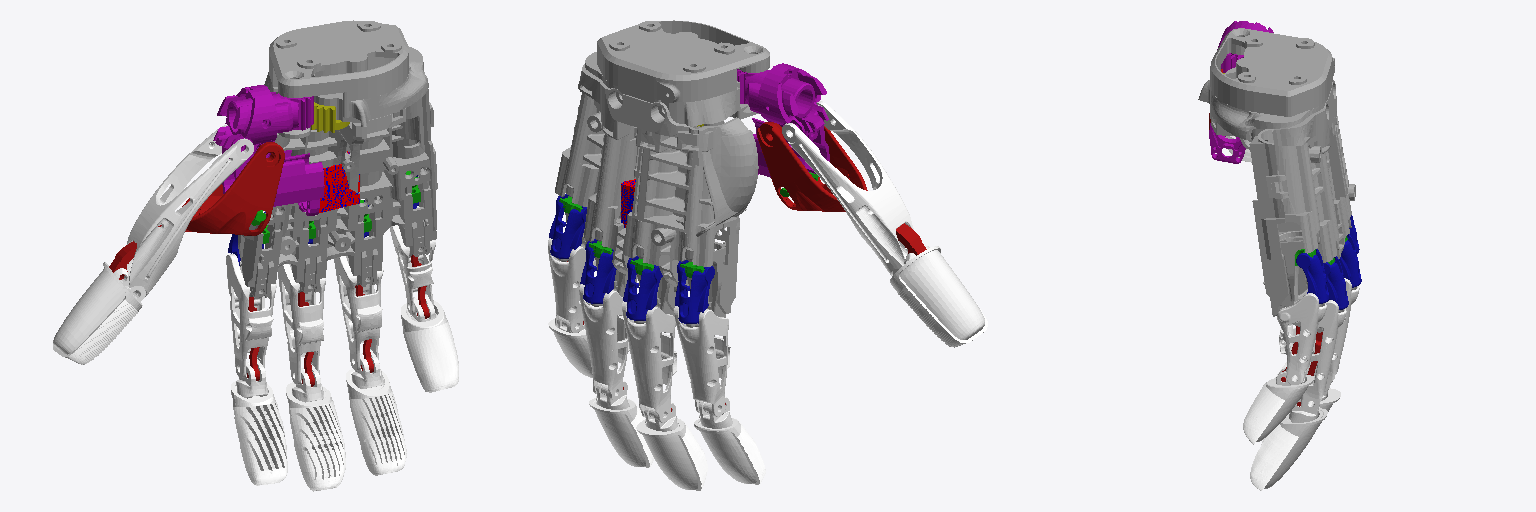
--- What the picture shows (computed from the rendered views, not written in the file) ---
3 views of the same robot in one strip: view 1: azimuth 30°, elevation 25°; view 2: azimuth 150°, elevation 25°; view 3: azimuth 270°, elevation 25° (orthographic).
Model covvi_hand_right with 87 links and 86 joints (32 revolute, 54 fixed), rooted at __hand_link, posed joints at zero except 8 at the middle of their limits (, +8 more).
Visible links, largest first — view 1: hand_link, thumb_proximal, thumb_chassis, thumb_link, middle_distal, thumb_distal, index_distal, ring_distal, little_distal, middle_proximal, index_proximal, ring_proximal (+3 smaller); view 2: hand_link, thumb_proximal, thumb_distal, thumb_chassis, thumb_link, middle_proximal, index_proximal, ring_proximal, middle_distal, index_distal, ring_distal, little_proximal (+5 smaller); view 3: hand_link, ring_distal, little_proximal, little_distal, ring_proximal, thumb_chassis, little_knuckle, middle_proximal, ring_knuckle, middle_knuckle.
Boxes of the visible links, <box> form: hand_link: <box>238,20,437,298</box>; thumb_proximal: <box>127,125,253,301</box>; thumb_chassis: <box>213,85,324,215</box>; thumb_link: <box>109,142,284,279</box>; middle_distal: <box>286,364,345,491</box>; thumb_distal: <box>53,262,142,364</box>; index_distal: <box>231,359,287,485</box>; ring_distal: <box>346,349,406,475</box>; little_distal: <box>401,294,458,392</box>; middle_proximal: <box>278,264,325,384</box>; index_proximal: <box>226,254,276,377</box>; ring_proximal: <box>334,237,383,370</box>; hand_link: <box>555,20,769,336</box>; thumb_proximal: <box>782,101,913,275</box>; thumb_distal: <box>890,245,987,347</box>; thumb_chassis: <box>737,63,829,177</box>; thumb_link: <box>757,122,926,255</box>; middle_proximal: <box>622,301,676,422</box>; index_proximal: <box>674,306,730,416</box>; ring_proximal: <box>579,284,629,400</box>; middle_distal: <box>636,403,707,490</box>; index_distal: <box>694,397,765,484</box>; ring_distal: <box>589,381,653,467</box>; little_proximal: <box>548,238,596,332</box>; hand_link: <box>1198,28,1355,332</box>; ring_distal: <box>1250,399,1327,490</box>; little_proximal: <box>1277,288,1326,384</box>; little_distal: <box>1243,368,1313,444</box>; ring_proximal: <box>1301,300,1346,411</box>; thumb_chassis: <box>1209,21,1273,163</box>; little_knuckle: <box>1296,249,1328,303</box>; middle_proximal: <box>1312,278,1359,391</box>; ring_knuckle: <box>1324,256,1348,309</box>; middle_knuckle: <box>1339,234,1361,287</box>.
Size in the robot's own frame: 9.94 by 3.65 by 10.22 metres.
Meshes: 27 distinct files referenced, 27 mesh visuals loaded (27 binary STL).

URDF robot description (covvi_hand_right):
<?xml version="1.0" encoding="utf-8"?>
<robot name="covvi_hand_right">

    <link name="__hand_link">
        <visual>
            <origin xyz="0 0 0" rpy="0 0 0"/>
            <geometry><box size="1 1 1"/></geometry>
            <material name="r48384"><color rgba="1 0 0 0"/></material>
        </visual>
        <inertial>
            <mass value="1"/>
            <inertia ixx="1.0" ixy="0.0" ixz="0.0" iyy="1.0" iyz="0.0" izz="1.0"/>
        </inertial>
    </link>

    <link name="_hand_link">
        <visual>
            <origin xyz="0 0 0" rpy="0 0 0"/>
            <geometry><box size="1 1 1"/></geometry>
            <material name="r81841"><color rgba="0 0 1 0"/></material>
        </visual>
        <inertial>
            <mass value="1"/>
            <inertia ixx="1.0" ixy="0.0" ixz="0.0" iyy="1.0" iyz="0.0" izz="1.0"/>
        </inertial>
    </link>

    <joint name="__joint_hand_link" type="fixed">
        <origin xyz="0 0 0" rpy="1.5707963267948966 3.141592653589793 0.0"/>
        <parent link="__hand_link"/>
        <child link="_hand_link"/>
        <axis xyz="0 0 1"/>
    </joint>

    <link name="hand_link">
        <visual>
            <origin xyz="0.0 0.0 0.0" rpy="0 0 0"/>
            <geometry><mesh filename="linear_meshes/right_base_link.STL" scale="0.0625 0.0625 0.0625"/></geometry>
            <material name=""><color rgba="0.7 0.7 0.7 1.0"/></material>
        </visual>
        <inertial>
            <mass value="0"/>
            <inertia ixx="0.0" ixy="0.0" ixz="0.0" iyy="0.0" iyz="0.0" izz="0.0"/>
        </inertial>
    </link>

    <joint name="_joint_hand_link" type="fixed">
        <origin xyz="0.10717067867517471 -3.3973965644836426 0.6303038001060486" rpy="0 0 0"/>
        <parent link="_hand_link"/>
        <child link="hand_link"/>
        <axis xyz="0 0 1"/>
    </joint>

        <link name="Thumb_driver_link">
        <visual>
            <origin xyz="0 0 0" rpy="0 0 0"/>
            <geometry><box size="0 0 0"/></geometry>
            <material name="r37082"><color rgba="0 0 0 0"/></material>
        </visual>
        <inertial>
            <mass value="1"/>
            <inertia ixx="1.0" ixy="0.0" ixz="0.0" iyy="1.0" iyz="0.0" izz="1.0"/>
        </inertial>
    </link>
    <joint name="Thumb" type="revolute">
        <origin xyz="0 0 0"/><parent link="hand_link"/><child link="Thumb_driver_link"/><axis xyz="0 0 1"/>
        <limit lower="0.00000000000000000000" upper="1.00000000000000000000" effort="0" velocity="0"/>
    </joint>
    <link name="Index_driver_link">
        <visual>
            <origin xyz="0 0 0" rpy="0 0 0"/>
            <geometry><box size="0 0 0"/></geometry>
            <material name="r47461"><color rgba="0 0 0 0"/></material>
        </visual>
        <inertial>
            <mass value="1"/>
            <inertia ixx="1.0" ixy="0.0" ixz="0.0" iyy="1.0" iyz="0.0" izz="1.0"/>
        </inertial>
    </link>
    <joint name="Index" type="revolute">
        <origin xyz="0 0 0"/><parent link="hand_link"/><child link="Index_driver_link"/><axis xyz="0 0 1"/>
        <limit lower="0.00000000000000000000" upper="1.00000000000000000000" effort="0" velocity="0"/>
    </joint>
    <link name="Middle_driver_link">
        <visual>
            <origin xyz="0 0 0" rpy="0 0 0"/>
            <geometry><box size="0 0 0"/></geometry>
            <material name="r7722"><color rgba="0 0 0 0"/></material>
        </visual>
        <inertial>
            <mass value="1"/>
            <inertia ixx="1.0" ixy="0.0" ixz="0.0" iyy="1.0" iyz="0.0" izz="1.0"/>
        </inertial>
    </link>
    <joint name="Middle" type="revolute">
        <origin xyz="0 0 0"/><parent link="hand_link"/><child link="Middle_driver_link"/><axis xyz="0 0 1"/>
        <limit lower="0.00000000000000000000" upper="1.00000000000000000000" effort="0" velocity="0"/>
    </joint>
    <link name="Ring_driver_link">
        <visual>
            <origin xyz="0 0 0" rpy="0 0 0"/>
            <geometry><box size="0 0 0"/></geometry>
            <material name="r66101"><color rgba="0 0 0 0"/></material>
        </visual>
        <inertial>
            <mass value="1"/>
            <inertia ixx="1.0" ixy="0.0" ixz="0.0" iyy="1.0" iyz="0.0" izz="1.0"/>
        </inertial>
    </link>
    <joint name="Ring" type="revolute">
        <origin xyz="0 0 0"/><parent link="hand_link"/><child link="Ring_driver_link"/><axis xyz="0 0 1"/>
        <limit lower="0.00000000000000000000" upper="1.00000000000000000000" effort="0" velocity="0"/>
    </joint>
    <link name="Little_driver_link">
        <visual>
            <origin xyz="0 0 0" rpy="0 0 0"/>
            <geometry><box size="0 0 0"/></geometry>
            <material name="r58325"><color rgba="0 0 0 0"/></material>
        </visual>
        <inertial>
            <mass value="1"/>
            <inertia ixx="1.0" ixy="0.0" ixz="0.0" iyy="1.0" iyz="0.0" izz="1.0"/>
        </inertial>
    </link>
    <joint name="Little" type="revolute">
        <origin xyz="0 0 0"/><parent link="hand_link"/><child link="Little_driver_link"/><axis xyz="0 0 1"/>
        <limit lower="0.00000000000000000000" upper="1.00000000000000000000" effort="0" velocity="0"/>
    </joint>
    <link name="Rotate_driver_link">
        <visual>
            <origin xyz="0 0 0" rpy="0 0 0"/>
            <geometry><box size="0 0 0"/></geometry>
            <material name="r13443"><color rgba="0 0 0 0"/></material>
        </visual>
        <inertial>
            <mass value="1"/>
            <inertia ixx="1.0" ixy="0.0" ixz="0.0" iyy="1.0" iyz="0.0" izz="1.0"/>
        </inertial>
    </link>
    <joint name="Rotate" type="revolute">
        <origin xyz="0 0 0"/><parent link="hand_link"/><child link="Rotate_driver_link"/><axis xyz="0 0 1"/>
        <limit lower="0.00000000000000000000" upper="1.00000000000000000000" effort="0" velocity="0"/>
    </joint>

        <link name="lisa">
        <visual>
            <origin xyz="0.0 0.0 0.0" rpy="0 0 0"/>
            <geometry><mesh filename="linear_meshes/right_lisa.STL" scale="0.0625 0.0625 0.0625"/></geometry>
            <material name=""><color rgba="0.7 0.7 0.1 1.0"/></material>
        </visual>
        <inertial>
            <mass value="0"/>
            <inertia ixx="0.0" ixy="0.0" ixz="0.0" iyy="0.0" iyz="0.0" izz="0.0"/>
        </inertial>
    </link>
        <link name="_lisa_l0">
        <visual>
            <origin xyz="0 0 0" rpy="0 0 0"/>
            <geometry><box size="0 0 0"/></geometry>
            <material name=""><color rgba="0 0 0 0"/></material>
        </visual>
        <inertial>
            <mass value="0"/>
            <inertia ixx="0.0" ixy="0.0" ixz="0.0" iyy="0.0" iyz="0.0" izz="0.0"/>
        </inertial>
    </link>

    <joint name="_lisa_j_input_joint" type="fixed">
        <origin xyz="0.6649580028042494 1.243265013263121 0.7747941474098129" rpy="-0.00000001490116097180 0 0"/>
        <parent link="hand_link"/>
        <axis xyz="8.166136313026937e-09 0.9999999999999999 1.300658039224663e-08"/>
        <child link="_lisa_l0"/>
    </joint>

    
    <link name="_lisa_l1">
        <visual>
            <origin xyz="0 0 -0.00000000000000000000" rpy="0 0 -0.00000001490116097180"/>
            <geometry><box size="0 0 0"/></geometry>
            <material name="r48572"><color rgba="0 0 0 0"/></material>
        </visual>
        <inertial>
            <mass value="1"/>
            <inertia ixx="1.0" ixy="0.0" ixz="0.0" iyy="1.0" iyz="0.0" izz="1.0"/>
        </inertial>
    </link>
    <joint name="_lisa_j01" type="revolute">
        <origin xyz="0 0 0.00000000000000000000" rpy="0 0 0"/>
        <parent link="_lisa_l0"/>
        <child link="_lisa_l1"/>
        <axis xyz="8.166136313026937e-09 0.9999999999999999 1.300658039224663e-08"/>
        <mimic joint="Rotate" multiplier="1.07337741974876732520" offset="0.00000001490116097180"/>
        <limit lower="0.00000001490116097180" upper="1.07337743464992829701" effort="0" velocity="0"/>
    </joint>


    <joint name="_lisa_j_lisa" type="fixed">
        <origin xyz="-0.6649580028042494 -1.243265013263121 -0.7747941474098129" rpy="-0.00000001490116097180 0 0"/>
        <parent link="_lisa_l1"/>
        <child link="lisa"/>
    </joint>
    <link name="thumb_chassis">
        <visual>
            <origin xyz="0.0 0.0 0.0" rpy="0 0 0"/>
            <geometry><mesh filename="linear_meshes/right_thumb_chassis.STL" scale="0.0625 0.0625 0.0625"/></geometry>
            <material name=""><color rgba="0.7 0.1 0.7 1.0"/></material>
        </visual>
        <inertial>
            <mass value="0"/>
            <inertia ixx="0.0" ixy="0.0" ixz="0.0" iyy="0.0" iyz="0.0" izz="0.0"/>
        </inertial>
    </link>
        <link name="_thumb_chassis_l0">
        <visual>
            <origin xyz="0 0 0" rpy="0 0 0"/>
            <geometry><box size="0 0 0"/></geometry>
            <material name=""><color rgba="0 0 0 0"/></material>
        </visual>
        <inertial>
            <mass value="0"/>
            <inertia ixx="0.0" ixy="0.0" ixz="0.0" iyy="0.0" iyz="0.0" izz="0.0"/>
        </inertial>
    </link>

    <joint name="_thumb_chassis_j_input_joint" type="fixed">
        <origin xyz="1.514903298568658 1.432445559291959 0.7844313794953435" rpy="-0.00000002107342389479 0 0"/>
        <parent link="hand_link"/>
        <axis xyz="-1.0039121702977482e-08 -0.9999999999999999 1.8777992879094288e-08"/>
        <child link="_thumb_chassis_l0"/>
    </joint>

    
    <link name="_thumb_chassis_l1">
        <visual>
            <origin xyz="0 0 -0.00000000000000000000" rpy="0 0 -0.00000002107342389479"/>
            <geometry><box size="0 0 0"/></geometry>
            <material name="r29002"><color rgba="0 0 0 0"/></material>
        </visual>
        <inertial>
            <mass value="1"/>
            <inertia ixx="1.0" ixy="0.0" ixz="0.0" iyy="1.0" iyz="0.0" izz="1.0"/>
        </inertial>
    </link>
    <joint name="_thumb_chassis_j01" type="revolute">
        <origin xyz="0 0 0.00000000000000000000" rpy="0 0 0"/>
        <parent link="_thumb_chassis_l0"/>
        <child link="_thumb_chassis_l1"/>
        <axis xyz="-1.0039121702977482e-08 -0.9999999999999999 1.8777992879094288e-08"/>
        <mimic joint="Rotate" multiplier="1.53339618284689227501" offset="0.00000002107342389479"/>
        <limit lower="0.00000002107342389479" upper="1.53339620392031616980" effort="0" velocity="0"/>
    </joint>


    <joint name="_thumb_chassis_j_thumb_chassis" type="fixed">
        <origin xyz="-1.514903298568658 -1.432445559291959 -0.7844313794953435" rpy="-0.00000002107342389479 0 0"/>
        <parent link="_thumb_chassis_l1"/>
        <child link="thumb_chassis"/>
    </joint>
    <link name="thumb_proximal">
        <visual>
            <origin xyz="0.0 0.0 0.0" rpy="0 0 0"/>
            <geometry><mesh filename="linear_meshes/right_thumb_proximal.STL" scale="0.0625 0.0625 0.0625"/></geometry>
            <material name=""><color rgba="1.0 1.0 1.0 1.0"/></material>
        </visual>
        <inertial>
            <mass value="0"/>
            <inertia ixx="0.0" ixy="0.0" ixz="0.0" iyy="0.0" iyz="0.0" izz="0.0"/>
        </inertial>
    </link>
        <link name="_thumb_proximal_l0">
        <visual>
            <origin xyz="0 0 0" rpy="0 0 0"/>
            <geometry><box size="0 0 0"/></geometry>
            <material name=""><color rgba="0 0 0 0"/></material>
        </visual>
        <inertial>
            <mass value="0"/>
            <inertia ixx="0.0" ixy="0.0" ixz="0.0" iyy="0.0" iyz="0.0" izz="0.0"/>
        </inertial>
    </link>

    <joint name="_thumb_proximal_j_input_joint" type="fixed">
        <origin xyz="2.8720356292446443 1.353914565668949 0.6504721331635288" rpy="0.00000000000000016653 0 0"/>
        <parent link="thumb_chassis"/>
        <axis xyz="0.14866818156281958 -0.1305261869683429 0.9802350158540093"/>
        <child link="_thumb_proximal_l0"/>
    </joint>

    
    <link name="_thumb_proximal_l1">
        <visual>
            <origin xyz="0 0 -0.00000000000000000000" rpy="0 0 0.00000000000000016653"/>
            <geometry><box size="0 0 0"/></geometry>
            <material name="r67118"><color rgba="0 0 0 0"/></material>
        </visual>
        <inertial>
            <mass value="1"/>
            <inertia ixx="1.0" ixy="0.0" ixz="0.0" iyy="1.0" iyz="0.0" izz="1.0"/>
        </inertial>
    </link>
    <joint name="_thumb_proximal_j01" type="revolute">
        <origin xyz="0 0 0.00000000000000000000" rpy="0 0 0"/>
        <parent link="_thumb_proximal_l0"/>
        <child link="_thumb_proximal_l1"/>
        <axis xyz="0.14866818156281958 -0.1305261869683429 0.9802350158540093"/>
        <mimic joint="Thumb" multiplier="0.72022188617106031039" offset="-0.00000000000000016653"/>
        <limit lower="-0.00000000000000016653" upper="0.72022188617106019937" effort="0" velocity="0"/>
    </joint>


    <joint name="_thumb_proximal_j_thumb_proximal" type="fixed">
        <origin xyz="-2.8720356292446443 -1.353914565668949 -0.6504721331635288" rpy="0.00000000000000016653 0 0"/>
        <parent link="_thumb_proximal_l1"/>
        <child link="thumb_proximal"/>
    </joint>
    <link name="thumb_distal">
        <visual>
            <origin xyz="0.0 0.0 0.0" rpy="0 0 0"/>
            <geometry><mesh filename="linear_meshes/right_thumb_distal.STL" scale="0.0625 0.0625 0.0625"/></geometry>
            <material name=""><color rgba="1.0 1.0 1.0 1.0"/></material>
        </visual>
        <inertial>
            <mass value="0"/>
            <inertia ixx="0.0" ixy="0.0" ixz="0.0" iyy="0.0" iyz="0.0" izz="0.0"/>
        </inertial>
    </link>
        <link name="_thumb_distal_l0">
        <visual>
            <origin xyz="0 0 0" rpy="0 0 0"/>
            <geometry><box size="0 0 0"/></geometry>
            <material name=""><color rgba="0 0 0 0"/></material>
        </visual>
        <inertial>
            <mass value="0"/>
            <inertia ixx="0.0" ixy="0.0" ixz="0.0" iyy="0.0" iyz="0.0" izz="0.0"/>
        </inertial>
    </link>

    <joint name="_thumb_distal_j_input_joint" type="fixed">
        <origin xyz="5.380329672338689 4.204299673061814 0.6377162617521437" rpy="0.00000000000000033307 0 0"/>
        <parent link="thumb_proximal"/>
        <axis xyz="0.1486681537240236 -0.13052619107234176 0.9802350195297231"/>
        <child link="_thumb_distal_l0"/>
    </joint>

    
    <link name="_thumb_distal_l1">
        <visual>
            <origin xyz="0 0 -0.00000000000000000000" rpy="0 0 0.00000000000000033307"/>
            <geometry><box size="0 0 0"/></geometry>
            <material name="r72482"><color rgba="0 0 0 0"/></material>
        </visual>
        <inertial>
            <mass value="1"/>
            <inertia ixx="1.0" ixy="0.0" ixz="0.0" iyy="1.0" iyz="0.0" izz="1.0"/>
        </inertial>
    </link>
    <joint name="_thumb_distal_j01" type="revolute">
        <origin xyz="0 0 0.00000000000000000000" rpy="0 0 0"/>
        <parent link="_thumb_distal_l0"/>
        <child link="_thumb_distal_l1"/>
        <axis xyz="0.1486681537240236 -0.13052619107234176 0.9802350195297231"/>
        <mimic joint="Thumb" multiplier="1.06686018440504470917" offset="-0.00000000000000033307"/>
        <limit lower="-0.00000000000000033307" upper="1.06686018440504426508" effort="0" velocity="0"/>
    </joint>


    <joint name="_thumb_distal_j_thumb_distal" type="fixed">
        <origin xyz="-5.380329672338689 -4.204299673061814 -0.6377162617521437" rpy="0.00000000000000033307 0 0"/>
        <parent link="_thumb_distal_l1"/>
        <child link="thumb_distal"/>
    </joint>
    <link name="thumb_link">
        <visual>
            <origin xyz="0.0 0.0 0.0" rpy="0 0 0"/>
            <geometry><mesh filename="linear_meshes/right_thumb_link.STL" scale="0.0625 0.0625 0.0625"/></geometry>
            <material name=""><color rgba="0.7 0.1 0.1 1.0"/></material>
        </visual>
        <inertial>
            <mass value="0"/>
            <inertia ixx="0.0" ixy="0.0" ixz="0.0" iyy="0.0" iyz="0.0" izz="0.0"/>
        </inertial>
    </link>
        <link name="_thumb_link_l0">
        <visual>
            <origin xyz="0 0 0" rpy="0 0 0"/>
            <geometry><box size="0 0 0"/></geometry>
            <material name=""><color rgba="0 0 0 0"/></material>
        </visual>
        <inertial>
            <mass value="0"/>
            <inertia ixx="0.0" ixy="0.0" ixz="0.0" iyy="0.0" iyz="0.0" izz="0.0"/>
        </inertial>
    </link>

    <joint name="_thumb_link_j_input_joint" type="fixed">
        <origin xyz="2.3175473087185097 1.6154584748791998 0.7720019170415124" rpy="0.00000000000000016653 0 0"/>
        <parent link="thumb_chassis"/>
        <axis xyz="0.1486681500676118 -0.1305261887766519 0.9802350203899655"/>
        <child link="_thumb_link_l0"/>
    </joint>

    
    <link name="_thumb_link_l1">
        <visual>
            <origin xyz="0 0 -0.00000000000000000000" rpy="0 0 0.00000000000000016653"/>
            <geometry><box size="0 0 0"/></geometry>
            <material name="r43178"><color rgba="0 0 0 0"/></material>
        </visual>
        <inertial>
            <mass value="1"/>
            <inertia ixx="1.0" ixy="0.0" ixz="0.0" iyy="1.0" iyz="0.0" izz="1.0"/>
        </inertial>
    </link>
    <joint name="_thumb_link_j01" type="revolute">
        <origin xyz="0 0 0.00000000000000000000" rpy="0 0 0"/>
        <parent link="_thumb_link_l0"/>
        <child link="_thumb_link_l1"/>
        <axis xyz="0.1486681500676118 -0.1305261887766519 0.9802350203899655"/>
        <mimic joint="Thumb" multiplier="0.76799454671461719890" offset="-0.00000000000000016653"/>
        <limit lower="-0.00000000000000016653" upper="0.76799454671461697686" effort="0" velocity="0"/>
    </joint>


    <joint name="_thumb_link_j_thumb_link" type="fixed">
        <origin xyz="-2.3175473087185097 -1.6154584748791998 -0.7720019170415124" rpy="0.00000000000000016653 0 0"/>
        <parent link="_thumb_link_l1"/>
        <child link="thumb_link"/>
    </joint>
    <link name="thumb_follower">
        <visual>
            <origin xyz="0.0 0.0 0.0" rpy="0 0 0"/>
            <geometry><mesh filename="linear_meshes/right_thumb_follower.STL" scale="0.0625 0.0625 0.0625"/></geometry>
            <material name=""><color rgba="0.1 0.7 0.1 1.0"/></material>
        </visual>
        <inertial>
            <mass value="0"/>
            <inertia ixx="0.0" ixy="0.0" ixz="0.0" iyy="0.0" iyz="0.0" izz="0.0"/>
        </inertial>
    </link>
        <link name="_thumb_follower_l0">
        <visual>
            <origin xyz="0 0 0" rpy="0 0 0"/>
            <geometry><box size="0 0 0"/></geometry>
            <material name=""><color rgba="0 0 0 0"/></material>
        </visual>
        <inertial>
            <mass value="0"/>
            <inertia ixx="0.0" ixy="0.0" ixz="0.0" iyy="0.0" iyz="0.0" izz="0.0"/>
        </inertial>
    </link>

    <joint name="_thumb_follower_j_input_joint" type="fixed">
        <origin xyz="2.720835809921482 2.848104079083896 0.8664653479863773" rpy="0.00000000000000022204 0 0"/>
        <parent link="thumb_link"/>
        <axis xyz="-0.1486655629842887 0.13052549101972807 -0.9802355056702565"/>
        <child link="_thumb_follower_l0"/>
    </joint>

    
    <link name="_thumb_follower_l1">
        <visual>
            <origin xyz="0 0 -0.00000000000000000000" rpy="0 0 0.00000000000000022204"/>
            <geometry><box size="0 0 0"/></geometry>
            <material name="r80207"><color rgba="0 0 0 0"/></material>
        </visual>
        <inertial>
            <mass value="1"/>
            <inertia ixx="1.0" ixy="0.0" ixz="0.0" iyy="1.0" iyz="0.0" izz="1.0"/>
        </inertial>
    </link>
    <joint name="_thumb_follower_j01" type="revolute">
        <origin xyz="0 0 0.00000000000000000000" rpy="0 0 0"/>
        <parent link="_thumb_follower_l0"/>
        <child link="_thumb_follower_l1"/>
        <axis xyz="-0.1486655629842887 0.13052549101972807 -0.9802355056702565"/>
        <mimic joint="Thumb" multiplier="0.93732763826281451092" offset="-0.00000000000000022204"/>
        <limit lower="-0.00000000000000022204" upper="0.93732763826281428887" effort="0" velocity="0"/>
    </joint>


    <joint name="_thumb_follower_j_thumb_follower" type="fixed">
        <origin xyz="-2.720835809921482 -2.848104079083896 -0.8664653479863773" rpy="0.00000000000000022204 0 0"/>
        <parent link="_thumb_follower_l1"/>
        <child link="thumb_follower"/>
    </joint>
    <link name="index_proximal">
        <visual>
            <origin xyz="0.0 0.0 0.0" rpy="0 0 0"/>
            <geometry><mesh filename="linear_meshes/right_index_proximal.STL" scale="0.0625 0.0625 0.0625"/></geometry>
            <material name=""><color rgba="1.0 1.0 1.0 1.0"/></material>
        </visual>
        <inertial>
            <mass value="0"/>
            <inertia ixx="0.0" ixy="0.0" ixz="0.0" iyy="0.0" iyz="0.0" izz="0.0"/>
        </inertial>
    </link>
        <link name="_index_proximal_l0">
        <visual>
            <origin xyz="0 0 0" rpy="0 0 0"/>
            <geometry><box size="0 0 0"/></geometry>
            <material name=""><color rgba="0 0 0 0"/></material>
        </visual>
        <inertial>
            <mass value="0"/>
            <inertia ixx="0.0" ixy="0.0" ixz="0.0" iyy="0.0" iyz="0.0" izz="0.0"/>
        </inertial>
    </link>

    <joint name="_index_proximal_j_input_joint" type="fixed">
        <origin xyz="1.4438636714684971 5.709859526571508 -0.9223736237943079" rpy="-0.00000001490116086078 0 0"/>
        <parent link="hand_link"/>
        <axis xyz="0.9935814517046622 -0.052307286750173175 -0.10029878653947531"/>
        <child link="_index_proximal_l0"/>
    </joint>

    
    <link name="_index_proximal_l1">
        <visual>
            <origin xyz="0 0 -0.00000000000000000000" rpy="0 0 -0.00000001490116086078"/>
            <geometry><box size="0 0 0"/></geometry>
            <material name="r69401"><color rgba="0 0 0 0"/></material>
        </visual>
        <inertial>
            <mass value="1"/>
            <inertia ixx="1.0" ixy="0.0" ixz="0.0" iyy="1.0" iyz="0.0" izz="1.0"/>
        </inertial>
    </link>
    <joint name="_index_proximal_j01" type="revolute">
        <origin xyz="0 0 0.00000000000000000000" rpy="0 0 0"/>
        <parent link="_index_proximal_l0"/>
        <child link="_index_proximal_l1"/>
        <axis xyz="0.9935814517046622 -0.052307286750173175 -0.10029878653947531"/>
        <mimic joint="Index" multiplier="1.51604339913513674887" offset="0.00000001490116086078"/>
        <limit lower="0.00000001490116086078" upper="1.51604341403629772067" effort="0" velocity="0"/>
    </joint>


    <joint name="_index_proximal_j_index_proximal" type="fixed">
        <origin xyz="-1.4438636714684971 -5.709859526571508 0.9223736237943079" rpy="-0.00000001490116086078 0 0"/>
        <parent link="_index_proximal_l1"/>
        <child link="index_proximal"/>
    </joint>
    <link name="index_distal">
        <visual>
            <origin xyz="0.0 0.0 0.0" rpy="0 0 0"/>
            <geometry><mesh filename="linear_meshes/right_index_distal.STL" scale="0.0625 0.0625 0.0625"/></geometry>
            <material name=""><color rgba="1.0 1.0 1.0 1.0"/></material>
        </visual>
        <inertial>
            <mass value="0"/>
            <inertia ixx="0.0" ixy="0.0" ixz="0.0" iyy="0.0" iyz="0.0" izz="0.0"/>
        </inertial>
    </link>
        <link name="_index_distal_l0">
        <visual>
            <origin xyz="0 0 0" rpy="0 0 0"/>
            <geometry><box size="0 0 0"/></geometry>
            <material name=""><color rgba="0 0 0 0"/></material>
        </visual>
        <inertial>
            <mass value="0"/>
            <inertia ixx="0.0" ixy="0.0" ixz="0.0" iyy="0.0" iyz="0.0" izz="0.0"/>
        </inertial>
    </link>

    <joint name="_index_distal_j_input_joint" type="fixed">
        <origin xyz="1.5070534999285634 7.578488986309617 -1.0647940483682832" rpy="-0.00000002107342395030 0 0"/>
        <parent link="index_proximal"/>
        <axis xyz="0.9935814496116296 -0.0523072979212324 -0.10029880144763517"/>
        <child link="_index_distal_l0"/>
    </joint>

    
    <link name="_index_distal_l1">
        <visual>
            <origin xyz="0 0 -0.00000000000000000000" rpy="0 0 -0.00000002107342395030"/>
            <geometry><box size="0 0 0"/></geometry>
            <material name="r61005"><color rgba="0 0 0 0"/></material>
        </visual>
        <inertial>
            <mass value="1"/>
            <inertia ixx="1.0" ixy="0.0" ixz="0.0" iyy="1.0" iyz="0.0" izz="1.0"/>
        </inertial>
    </link>
    <joint name="_index_distal_j01" type="revolute">
        <origin xyz="0 0 0.00000000000000000000" rpy="0 0 0"/>
        <parent link="_index_distal_l0"/>
        <child link="_index_distal_l1"/>
        <axis xyz="0.9935814496116296 -0.0523072979212324 -0.10029880144763517"/>
        <mimic joint="Index" multiplier="1.33574108836935590006" offset="0.00000002107342395030"/>
        <limit lower="0.00000002107342395030" upper="1.33574110944277979485" effort="0" velocity="0"/>
    </joint>


    <joint name="_index_distal_j_index_distal" type="fixed">
        <origin xyz="-1.5070534999285634 -7.578488986309617 1.0647940483682832" rpy="-0.00000002107342395030 0 0"/>
        <parent link="_index_distal_l1"/>
        <child link="index_distal"/>
    </joint>
    <link name="index_knuckle">
        <visual>
            <origin xyz="0.0 0.0 0.0" rpy="0 0 0"/>
            <geometry><mesh filename="linear_meshes/right_index_knuckle.STL" scale="0.0625 0.0625 0.0625"/></geometry>
            <material name=""><color rgba="0.1 0.1 0.7 1.0"/></material>
        </visual>
        <inertial>
            <mass value="0"/>
            <inertia ixx="0.0" ixy="0.0" ixz="0.0" iyy="0.0" iyz="0.0" izz="0.0"/>
        </inertial>
    </link>
        <link name="_index_knuckle_l0">
        <visual>
            <origin xyz="0 0 0" rpy="0 0 0"/>
            <geometry><box size="0 0 0"/></geometry>
            <material name=""><color rgba="0 0 0 0"/></material>
        </visual>
        <inertial>
            <mass value="0"/>
            <inertia ixx="0.0" ixy="0.0" ixz="0.0" iyy="0.0" iyz="0.0" izz="0.0"/>
        </inertial>
    </link>

    <joint name="_index_knuckle_j_input_joint" type="fixed">
        <origin xyz="1.366060538694307 5.324288335618494 -1.4862338867796852" rpy="-0.00000002107342400581 0 0"/>
        <parent link="index_proximal"/>
        <axis xyz="-0.9935814514632575 0.05230723732964991 0.10029881470439378"/>
        <child link="_index_knuckle_l0"/>
    </joint>

    
    <link name="_index_knuckle_l1">
        <visual>
            <origin xyz="0 0 -0.00000000000000000000" rpy="0 0 -0.00000002107342400581"/>
            <geometry><box size="0 0 0"/></geometry>
            <material name="r79316"><color rgba="0 0 0 0"/></material>
        </visual>
        <inertial>
            <mass value="1"/>
            <inertia ixx="1.0" ixy="0.0" ixz="0.0" iyy="1.0" iyz="0.0" izz="1.0"/>
        </inertial>
    </link>
    <joint name="_index_knuckle_j01" type="revolute">
        <origin xyz="0 0 0.00000000000000000000" rpy="0 0 0"/>
        <parent link="_index_knuckle_l0"/>
        <child link="_index_knuckle_l1"/>
        <axis xyz="-0.9935814514632575 0.05230723732964991 0.10029881470439378"/>
        <mimic joint="Index" multiplier="1.25181519799450313712" offset="0.00000002107342400581"/>
        <limit lower="0.00000002107342400581" upper="1.25181521906792703192" effort="0" velocity="0"/>
    </joint>


    <joint name="_index_knuckle_j_index_knuckle" type="fixed">
        <origin xyz="-1.366060538694307 -5.324288335618494 1.4862338867796852" rpy="-0.00000002107342400581 0 0"/>
        <parent link="_index_knuckle_l1"/>
        <child link="index_knuckle"/>
    </joint>
    <link name="index_follower">
        <visual>
            <origin xyz="0.0 0.0 0.0" rpy="0 0 0"/>
            <geometry><mesh filename="linear_meshes/right_index_follower.STL" scale="0.0625 0.0625 0.0625"/></geometry>
            <material name=""><color rgba="0.1 0.7 0.1 1.0"/></material>
        </visual>
        <inertial>
            <mass value="0"/>
            <inertia ixx="0.0" ixy="0.0" ixz="0.0" iyy="0.0" iyz="0.0" izz="0.0"/>
        </inertial>
    </link>
        <link name="_index_follower_l0">
        <visual>
            <origin xyz="0 0 0" rpy="0 0 0"/>
            <geometry><box size="0 0 0"/></geometry>
            <material name=""><color rgba="0 0 0 0"/></material>
        </visual>
        <inertial>
            <mass value="0"/>
            <inertia ixx="0.0" ixy="0.0" ixz="0.0" iyy="0.0" iyz="0.0" izz="0.0"/>
        </inertial>
    </link>

    <joint name="_index_follower_j_input_joint" type="fixed">
        <origin xyz="1.3289578043144759 4.198973084070179 -1.3040394900270869" rpy="0.00000000000000005551 0 0"/>
        <parent link="index_knuckle"/>
        <axis xyz="-0.9935816391717812 0.05230592427414335 0.10029763998491735"/>
        <child link="_index_follower_l0"/>
    </joint>

    
    <link name="_index_follower_l1">
        <visual>
            <origin xyz="0 0 -0.00000000000000000000" rpy="0 0 0.00000000000000005551"/>
            <geometry><box size="0 0 0"/></geometry>
            <material name="r82929"><color rgba="0 0 0 0"/></material>
        </visual>
        <inertial>
            <mass value="1"/>
            <inertia ixx="1.0" ixy="0.0" ixz="0.0" iyy="1.0" iyz="0.0" izz="1.0"/>
        </inertial>
    </link>
    <joint name="_index_follower_j01" type="revolute">
        <origin xyz="0 0 0.00000000000000000000" rpy="0 0 0"/>
        <parent link="_index_follower_l0"/>
        <child link="_index_follower_l1"/>
        <axis xyz="-0.9935816391717812 0.05230592427414335 0.10029763998491735"/>
        <mimic joint="Index" multiplier="0.26422627443923907276" offset="-0.00000000000000005551"/>
        <limit lower="-0.00000000000000005551" upper="0.26422627443923901724" effort="0" velocity="0"/>
    </joint>


    <joint name="_index_follower_j_index_follower" type="fixed">
        <origin xyz="-1.3289578043144759 -4.198973084070179 1.3040394900270869" rpy="0.00000000000000005551 0 0"/>
        <parent link="_index_follower_l1"/>
        <child link="index_follower"/>
    </joint>
    <link name="index_link">
        <visual>
            <origin xyz="0.0 0.0 0.0" rpy="0 0 0"/>
            <geometry><mesh filename="linear_meshes/right_index_link.STL" scale="0.0625 0.0625 0.0625"/></geometry>
            <material name=""><color rgba="0.7 0.1 0.1 1.0"/></material>
        </visual>
        <inertial>
            <mass value="0"/>
            <inertia ixx="0.0" ixy="0.0" ixz="0.0" iyy="0.0" iyz="0.0" izz="0.0"/>
        </inertial>
    </link>
        <link name="_index_link_l0">
        <visual>
            <origin xyz="0 0 0" rpy="0 0 0"/>
            <geometry><box size="0 0 0"/></geometry>
            <material name=""><color rgba="0 0 0 0"/></material>
        </visual>
        <inertial>
            <mass value="0"/>
            <inertia ixx="0.0" ixy="0.0" ixz="0.0" iyy="0.0" iyz="0.0" izz="0.0"/>
        </inertial>
    </link>

    <joint name="_index_link_j_input_joint" type="fixed">
        <origin xyz="1.3943596383310624 5.7976159675856795 -1.1863715383108244" rpy="0.00000000000000033307 0 0"/>
        <parent link="hand_link"/>
        <axis xyz="0.9935814462116063 -0.05230730452290644 -0.10029883168612273"/>
        <child link="_index_link_l0"/>
    </joint>

    
    <link name="_index_link_l1">
        <visual>
            <origin xyz="0 0 -0.00000000000000000000" rpy="0 0 0.00000000000000033307"/>
            <geometry><box size="0 0 0"/></geometry>
            <material name="r18117"><color rgba="0 0 0 0"/></material>
        </visual>
        <inertial>
            <mass value="1"/>
            <inertia ixx="1.0" ixy="0.0" ixz="0.0" iyy="1.0" iyz="0.0" izz="1.0"/>
        </inertial>
    </link>
    <joint name="_index_link_j01" type="revolute">
        <origin xyz="0 0 0.00000000000000000000" rpy="0 0 0"/>
        <parent link="_index_link_l0"/>
        <child link="_index_link_l1"/>
        <axis xyz="0.9935814462116063 -0.05230730452290644 -0.10029883168612273"/>
        <mimic joint="Index" multiplier="1.33574038782547521720" offset="-0.00000000000000033307"/>
        <limit lower="-0.00000000000000033307" upper="1.33574038782547499515" effort="0" velocity="0"/>
    </joint>


    <joint name="_index_link_j_index_link" type="fixed">
        <origin xyz="-1.3943596383310624 -5.7976159675856795 1.1863715383108244" rpy="0.00000000000000033307 0 0"/>
        <parent link="_index_link_l1"/>
        <child link="index_link"/>
    </joint>
    <link name="middle_proximal">
        <visual>
            <origin xyz="0.0 0.0 0.0" rpy="0 0 0"/>
            <geometry><mesh filename="linear_meshes/right_middle_proximal.STL" scale="0.0625 0.0625 0.0625"/></geometry>
            <material name=""><color rgba="1.0 1.0 1.0 1.0"/></material>
        </visual>
        <inertial>
            <mass value="0"/>
            <inertia ixx="0.0" ixy="0.0" ixz="0.0" iyy="0.0" iyz="0.0" izz="0.0"/>
        </inertial>
    </link>
        <link name="_middle_proximal_l0">
        <visual>
            <origin xyz="0 0 0" rpy="0 0 0"/>
            <geometry><box size="0 0 0"/></geometry>
            <material name=""><color rgba="0 0 0 0"/></material>
        </visual>
        <inertial>
            <mass value="0"/>
            <inertia ixx="0.0" ixy="0.0" ixz="0.0" iyy="0.0" iyz="0.0" izz="0.0"/>
        </inertial>
    </link>

    <joint name="_middle_proximal_j_input_joint" type="fixed">
        <origin xyz="0.20973618604014632 5.898534205707262 -0.9712659363241443" rpy="0.00000000000000055511 0 0"/>
        <parent link="hand_link"/>
        <axis xyz="0.9910685918607293 1.8063346067449371e-09 -0.13335308855512615"/>
        <child link="_middle_proximal_l0"/>
    </joint>

    
    <link name="_middle_proximal_l1">
        <visual>
            <origin xyz="0 0 -0.00000000000000000000" rpy="0 0 0.00000000000000055511"/>
            <geometry><box size="0 0 0"/></geometry>
            <material name="r35313"><color rgba="0 0 0 0"/></material>
        </visual>
        <inertial>
            <mass value="1"/>
            <inertia ixx="1.0" ixy="0.0" ixz="0.0" iyy="1.0" iyz="0.0" izz="1.0"/>
        </inertial>
    </link>
    <joint name="_middle_proximal_j01" type="revolute">
        <origin xyz="0 0 0.00000000000000000000" rpy="0 0 0"/>
        <parent link="_middle_proximal_l0"/>
        <child link="_middle_proximal_l1"/>
        <axis xyz="0.9910685918607293 1.8063346067449371e-09 -0.13335308855512615"/>
        <mimic joint="Middle" multiplier="1.51604368978713033300" offset="-0.00000000000000055511"/>
        <limit lower="-0.00000000000000055511" upper="1.51604368978712988891" effort="0" velocity="0"/>
    </joint>


    <joint name="_middle_proximal_j_middle_proximal" type="fixed">
        <origin xyz="-0.20973618604014632 -5.898534205707262 0.9712659363241443" rpy="0.00000000000000055511 0 0"/>
        <parent link="_middle_proximal_l1"/>
        <child link="middle_proximal"/>
    </joint>
    <link name="middle_distal">
        <visual>
            <origin xyz="0.0 0.0 0.0" rpy="0 0 0"/>
            <geometry><mesh filename="linear_meshes/right_middle_distal.STL" scale="0.0625 0.0625 0.0625"/></geometry>
            <material name=""><color rgba="1.0 1.0 1.0 1.0"/></material>
        </visual>
        <inertial>
            <mass value="0"/>
            <inertia ixx="0.0" ixy="0.0" ixz="0.0" iyy="0.0" iyz="0.0" izz="0.0"/>
        </inertial>
    </link>
        <link name="_middle_distal_l0">
        <visual>
            <origin xyz="0 0 0" rpy="0 0 0"/>
            <geometry><box size="0 0 0"/></geometry>
            <material name=""><color rgba="0 0 0 0"/></material>
        </visual>
        <inertial>
            <mass value="0"/>
            <inertia ixx="0.0" ixy="0.0" ixz="0.0" iyy="0.0" iyz="0.0" izz="0.0"/>
        </inertial>
    </link>

    <joint name="_middle_distal_j_input_joint" type="fixed">
        <origin xyz="0.19688874055412953 8.022176691106141 -1.0461525552984252" rpy="-0.00000002107342389479 0 0"/>
        <parent link="middle_proximal"/>
        <axis xyz="0.9910685909316314 -1.689482686870114e-09 -0.13335309546010102"/>
        <child link="_middle_distal_l0"/>
    </joint>

    
    <link name="_middle_distal_l1">
        <visual>
            <origin xyz="0 0 -0.00000000000000000000" rpy="0 0 -0.00000002107342389479"/>
            <geometry><box size="0 0 0"/></geometry>
            <material name="r17832"><color rgba="0 0 0 0"/></material>
        </visual>
        <inertial>
            <mass value="1"/>
            <inertia ixx="1.0" ixy="0.0" ixz="0.0" iyy="1.0" iyz="0.0" izz="1.0"/>
        </inertial>
    </link>
    <joint name="_middle_distal_j01" type="revolute">
        <origin xyz="0 0 0.00000000000000000000" rpy="0 0 0"/>
        <parent link="_middle_distal_l0"/>
        <child link="_middle_distal_l1"/>
        <axis xyz="0.9910685909316314 -1.689482686870114e-09 -0.13335309546010102"/>
        <mimic joint="Middle" multiplier="1.34986011532341310115" offset="0.00000002107342389479"/>
        <limit lower="0.00000002107342389479" upper="1.34986013639683699594" effort="0" velocity="0"/>
    </joint>


    <joint name="_middle_distal_j_middle_distal" type="fixed">
        <origin xyz="-0.19688874055412953 -8.022176691106141 1.0461525552984252" rpy="-0.00000002107342389479 0 0"/>
        <parent link="_middle_distal_l1"/>
        <child link="middle_distal"/>
    </joint>
    <link name="middle_knuckle">
        <visual>
            <origin xyz="0.0 0.0 0.0" rpy="0 0 0"/>
            <geometry><mesh filename="linear_meshes/right_middle_knuckle.STL" scale="0.0625 0.0625 0.0625"/></geometry>
            <material name=""><color rgba="0.1 0.1 0.7 1.0"/></material>
        </visual>
        <inertial>
            <mass value="0"/>
            <inertia ixx="0.0" ixy="0.0" ixz="0.0" iyy="0.0" iyz="0.0" izz="0.0"/>
        </inertial>
    </link>
        <link name="_middle_knuckle_l0">
        <visual>
            <origin xyz="0 0 0" rpy="0 0 0"/>
            <geometry><box size="0 0 0"/></geometry>
            <material name=""><color rgba="0 0 0 0"/></material>
        </visual>
        <inertial>
            <mass value="0"/>
            <inertia ixx="0.0" ixy="0.0" ixz="0.0" iyy="0.0" iyz="0.0" izz="0.0"/>
        </inertial>
    </link>

    <joint name="_middle_knuckle_j_input_joint" type="fixed">
        <origin xyz="0.1327026701136127 5.513391010636881 -1.535525341148929" rpy="0.00000000000000022204 0 0"/>
        <parent link="middle_proximal"/>
        <axis xyz="-0.9910685921320656 -5.1727278766516505e-09 0.13335308653857816"/>
        <child link="_middle_knuckle_l0"/>
    </joint>

    
    <link name="_middle_knuckle_l1">
        <visual>
            <origin xyz="0 0 -0.00000000000000000000" rpy="0 0 0.00000000000000022204"/>
            <geometry><box size="0 0 0"/></geometry>
            <material name="r26979"><color rgba="0 0 0 0"/></material>
        </visual>
        <inertial>
            <mass value="1"/>
            <inertia ixx="1.0" ixy="0.0" ixz="0.0" iyy="1.0" iyz="0.0" izz="1.0"/>
        </inertial>
    </link>
    <joint name="_middle_knuckle_j01" type="revolute">
        <origin xyz="0 0 0.00000000000000000000" rpy="0 0 0"/>
        <parent link="_middle_knuckle_l0"/>
        <child link="_middle_knuckle_l1"/>
        <axis xyz="-0.9910685921320656 -5.1727278766516505e-09 0.13335308653857816"/>
        <mimic joint="Middle" multiplier="1.25181499257524908586" offset="-0.00000000000000022204"/>
        <limit lower="-0.00000000000000022204" upper="1.25181499257524886382" effort="0" velocity="0"/>
    </joint>


    <joint name="_middle_knuckle_j_middle_knuckle" type="fixed">
        <origin xyz="-0.1327026701136127 -5.513391010636881 1.535525341148929" rpy="0.00000000000000022204 0 0"/>
        <parent link="_middle_knuckle_l1"/>
        <child link="middle_knuckle"/>
    </joint>
    <link name="middle_follower">
        <visual>
            <origin xyz="0.0 0.0 0.0" rpy="0 0 0"/>
            <geometry><mesh filename="linear_meshes/right_middle_follower.STL" scale="0.0625 0.0625 0.0625"/></geometry>
            <material name=""><color rgba="0.1 0.7 0.1 1.0"/></material>
        </visual>
        <inertial>
            <mass value="0"/>
            <inertia ixx="0.0" ixy="0.0" ixz="0.0" iyy="0.0" iyz="0.0" izz="0.0"/>
        </inertial>
    </link>
        <link name="_middle_follower_l0">
        <visual>
            <origin xyz="0 0 0" rpy="0 0 0"/>
            <geometry><box size="0 0 0"/></geometry>
            <material name=""><color rgba="0 0 0 0"/></material>
        </visual>
        <inertial>
            <mass value="0"/>
            <inertia ixx="0.0" ixy="0.0" ixz="0.0" iyy="0.0" iyz="0.0" izz="0.0"/>
        </inertial>
    </link>

    <joint name="_middle_follower_j_input_joint" type="fixed">
        <origin xyz="0.15980891875989833 4.386421938486642 -1.361995902128741" rpy="0.00000000000000005551 0 0"/>
        <parent link="middle_knuckle"/>
        <axis xyz="-0.9910686221283496 -3.493623730798563e-07 0.13335286360814524"/>
        <child link="_middle_follower_l0"/>
    </joint>

    
    <link name="_middle_follower_l1">
        <visual>
            <origin xyz="0 0 -0.00000000000000000000" rpy="0 0 0.00000000000000005551"/>
            <geometry><box size="0 0 0"/></geometry>
            <material name="r16493"><color rgba="0 0 0 0"/></material>
        </visual>
        <inertial>
            <mass value="1"/>
            <inertia ixx="1.0" ixy="0.0" ixz="0.0" iyy="1.0" iyz="0.0" izz="1.0"/>
        </inertial>
    </link>
    <joint name="_middle_follower_j01" type="revolute">
        <origin xyz="0 0 0.00000000000000000000" rpy="0 0 0"/>
        <parent link="_middle_follower_l0"/>
        <child link="_middle_follower_l1"/>
        <axis xyz="-0.9910686221283496 -3.493623730798563e-07 0.13335286360814524"/>
        <mimic joint="Middle" multiplier="0.26422641895880322194" offset="-0.00000000000000005551"/>
        <limit lower="-0.00000000000000005551" upper="0.26422641895880316643" effort="0" velocity="0"/>
    </joint>


    <joint name="_middle_follower_j_middle_follower" type="fixed">
        <origin xyz="-0.15980891875989833 -4.386421938486642 1.361995902128741" rpy="0.00000000000000005551 0 0"/>
        <parent link="_middle_follower_l1"/>
        <child link="middle_follower"/>
    </joint>
    <link name="middle_link">
        <visual>
            <origin xyz="0.0 0.0 0.0" rpy="0 0 0"/>
            <geometry><mesh filename="linear_meshes/right_middle_link.STL" scale="0.0625 0.0625 0.0625"/></geometry>
            <material name=""><color rgba="0.7 0.1 0.1 1.0"/></material>
        </visual>
        <inertial>
            <mass value="0"/>
            <inertia ixx="0.0" ixy="0.0" ixz="0.0" iyy="0.0" iyz="0.0" izz="0.0"/>
        </inertial>
    </link>
        <link name="_middle_link_l0">
        <visual>
            <origin xyz="0 0 0" rpy="0 0 0"/>
            <geometry><box size="0 0 0"/></geometry>
            <material name=""><color rgba="0 0 0 0"/></material>
        </visual>
        <inertial>
            <mass value="0"/>
            <inertia ixx="0.0" ixy="0.0" ixz="0.0" iyy="0.0" iyz="0.0" izz="0.0"/>
        </inertial>
    </link>

    <joint name="_middle_link_j_input_joint" type="fixed">
        <origin xyz="0.1485688418916027 5.985445071198181 -1.232930729247692" rpy="0.00000000000000027756 0 0"/>
        <parent link="hand_link"/>
        <axis xyz="0.991068591048481 -2.638530424585682e-09 -0.13335309459168482"/>
        <child link="_middle_link_l0"/>
    </joint>

    
    <link name="_middle_link_l1">
        <visual>
            <origin xyz="0 0 -0.00000000000000000000" rpy="0 0 0.00000000000000027756"/>
            <geometry><box size="0 0 0"/></geometry>
            <material name="r5837"><color rgba="0 0 0 0"/></material>
        </visual>
        <inertial>
            <mass value="1"/>
            <inertia ixx="1.0" ixy="0.0" ixz="0.0" iyy="1.0" iyz="0.0" izz="1.0"/>
        </inertial>
    </link>
    <joint name="_middle_link_j01" type="revolute">
        <origin xyz="0 0 0.00000000000000000000" rpy="0 0 0"/>
        <parent link="_middle_link_l0"/>
        <child link="_middle_link_l1"/>
        <axis xyz="0.991068591048481 -2.638530424585682e-09 -0.13335309459168482"/>
        <mimic joint="Middle" multiplier="1.34986028913700661924" offset="-0.00000000000000027756"/>
        <limit lower="-0.00000000000000027756" upper="1.34986028913700639720" effort="0" velocity="0"/>
    </joint>


    <joint name="_middle_link_j_middle_link" type="fixed">
        <origin xyz="-0.1485688418916027 -5.985445071198181 1.232930729247692" rpy="0.00000000000000027756 0 0"/>
        <parent link="_middle_link_l1"/>
        <child link="middle_link"/>
    </joint>
    <link name="ring_proximal">
        <visual>
            <origin xyz="0.0 0.0 0.0" rpy="0 0 0"/>
            <geometry><mesh filename="linear_meshes/right_ring_proximal.STL" scale="0.0625 0.0625 0.0625"/></geometry>
            <material name=""><color rgba="1.0 1.0 1.0 1.0"/></material>
        </visual>
        <inertial>
            <mass value="0"/>
            <inertia ixx="0.0" ixy="0.0" ixz="0.0" iyy="0.0" iyz="0.0" izz="0.0"/>
        </inertial>
    </link>
        <link name="_ring_proximal_l0">
        <visual>
            <origin xyz="0 0 0" rpy="0 0 0"/>
            <geometry><box size="0 0 0"/></geometry>
            <material name=""><color rgba="0 0 0 0"/></material>
        </visual>
        <inertial>
            <mass value="0"/>
            <inertia ixx="0.0" ixy="0.0" ixz="0.0" iyy="0.0" iyz="0.0" izz="0.0"/>
        </inertial>
    </link>

    <joint name="_ring_proximal_j_input_joint" type="fixed">
        <origin xyz="-1.0126493534897856 5.898556410085637 -0.6806766424213684" rpy="0.00000000000000022204 0 0"/>
        <parent link="hand_link"/>
        <axis xyz="0.9904648606189275 0.03489949479855251 -0.1332718467716812"/>
        <child link="_ring_proximal_l0"/>
    </joint>

    
    <link name="_ring_proximal_l1">
        <visual>
            <origin xyz="0 0 -0.00000000000000000000" rpy="0 0 0.00000000000000022204"/>
            <geometry><box size="0 0 0"/></geometry>
            <material name="r1173"><color rgba="0 0 0 0"/></material>
        </visual>
        <inertial>
            <mass value="1"/>
            <inertia ixx="1.0" ixy="0.0" ixz="0.0" iyy="1.0" iyz="0.0" izz="1.0"/>
        </inertial>
    </link>
    <joint name="_ring_proximal_j01" type="revolute">
        <origin xyz="0 0 0.00000000000000000000" rpy="0 0 0"/>
        <parent link="_ring_proximal_l0"/>
        <child link="_ring_proximal_l1"/>
        <axis xyz="0.9904648606189275 0.03489949479855251 -0.1332718467716812"/>
        <mimic joint="Ring" multiplier="1.51604328762193563129" offset="-0.00000000000000022204"/>
        <limit lower="-0.00000000000000022204" upper="1.51604328762193540925" effort="0" velocity="0"/>
    </joint>


    <joint name="_ring_proximal_j_ring_proximal" type="fixed">
        <origin xyz="1.0126493534897856 -5.898556410085637 0.6806766424213684" rpy="0.00000000000000022204 0 0"/>
        <parent link="_ring_proximal_l1"/>
        <child link="ring_proximal"/>
    </joint>
    <link name="ring_distal">
        <visual>
            <origin xyz="0.0 0.0 0.0" rpy="0 0 0"/>
            <geometry><mesh filename="linear_meshes/right_ring_distal.STL" scale="0.0625 0.0625 0.0625"/></geometry>
            <material name=""><color rgba="1.0 1.0 1.0 1.0"/></material>
        </visual>
        <inertial>
            <mass value="0"/>
            <inertia ixx="0.0" ixy="0.0" ixz="0.0" iyy="0.0" iyz="0.0" izz="0.0"/>
        </inertial>
    </link>
        <link name="_ring_distal_l0">
        <visual>
            <origin xyz="0 0 0" rpy="0 0 0"/>
            <geometry><box size="0 0 0"/></geometry>
            <material name=""><color rgba="0 0 0 0"/></material>
        </visual>
        <inertial>
            <mass value="0"/>
            <inertia ixx="0.0" ixy="0.0" ixz="0.0" iyy="0.0" iyz="0.0" izz="0.0"/>
        </inertial>
    </link>

    <joint name="_ring_distal_j_input_joint" type="fixed">
        <origin xyz="-1.1013923470306217 7.892249906746441 -0.8122495227348061" rpy="0.00000000000000033307 0 0"/>
        <parent link="ring_proximal"/>
        <axis xyz="0.9904648613223425 0.03489949532287934 -0.1332718414066574"/>
        <child link="_ring_distal_l0"/>
    </joint>

    
    <link name="_ring_distal_l1">
        <visual>
            <origin xyz="0 0 -0.00000000000000000000" rpy="0 0 0.00000000000000033307"/>
            <geometry><box size="0 0 0"/></geometry>
            <material name="r6804"><color rgba="0 0 0 0"/></material>
        </visual>
        <inertial>
            <mass value="1"/>
            <inertia ixx="1.0" ixy="0.0" ixz="0.0" iyy="1.0" iyz="0.0" izz="1.0"/>
        </inertial>
    </link>
    <joint name="_ring_distal_j01" type="revolute">
        <origin xyz="0 0 0.00000000000000000000" rpy="0 0 0"/>
        <parent link="_ring_distal_l0"/>
        <child link="_ring_distal_l1"/>
        <axis xyz="0.9904648613223425 0.03489949532287934 -0.1332718414066574"/>
        <mimic joint="Ring" multiplier="1.34878317629562793911" offset="-0.00000000000000033307"/>
        <limit lower="-0.00000000000000033307" upper="1.34878317629562749502" effort="0" velocity="0"/>
    </joint>


    <joint name="_ring_distal_j_ring_distal" type="fixed">
        <origin xyz="1.1013923470306217 -7.892249906746441 0.8122495227348061" rpy="0.00000000000000033307 0 0"/>
        <parent link="_ring_distal_l1"/>
        <child link="ring_distal"/>
    </joint>
    <link name="ring_knuckle">
        <visual>
            <origin xyz="0.0 0.0 0.0" rpy="0 0 0"/>
            <geometry><mesh filename="linear_meshes/right_ring_knuckle.STL" scale="0.0625 0.0625 0.0625"/></geometry>
            <material name=""><color rgba="0.1 0.1 0.7 1.0"/></material>
        </visual>
        <inertial>
            <mass value="0"/>
            <inertia ixx="0.0" ixy="0.0" ixz="0.0" iyy="0.0" iyz="0.0" izz="0.0"/>
        </inertial>
    </link>
        <link name="_ring_knuckle_l0">
        <visual>
            <origin xyz="0 0 0" rpy="0 0 0"/>
            <geometry><box size="0 0 0"/></geometry>
            <material name=""><color rgba="0 0 0 0"/></material>
        </visual>
        <inertial>
            <mass value="0"/>
            <inertia ixx="0.0" ixy="0.0" ixz="0.0" iyy="0.0" iyz="0.0" izz="0.0"/>
        </inertial>
    </link>

    <joint name="_ring_knuckle_j_input_joint" type="fixed">
        <origin xyz="-1.076287437386446 5.513612382054195 -1.2467379346586647" rpy="0.00000000000000033307 0 0"/>
        <parent link="ring_proximal"/>
        <axis xyz="-0.9904648595323436 -0.034899502408724456 0.13327185285422538"/>
        <child link="_ring_knuckle_l0"/>
    </joint>

    
    <link name="_ring_knuckle_l1">
        <visual>
            <origin xyz="0 0 -0.00000000000000000000" rpy="0 0 0.00000000000000033307"/>
            <geometry><box size="0 0 0"/></geometry>
            <material name="r88452"><color rgba="0 0 0 0"/></material>
        </visual>
        <inertial>
            <mass value="1"/>
            <inertia ixx="1.0" ixy="0.0" ixz="0.0" iyy="1.0" iyz="0.0" izz="1.0"/>
        </inertial>
    </link>
    <joint name="_ring_knuckle_j01" type="revolute">
        <origin xyz="0 0 0.00000000000000000000" rpy="0 0 0"/>
        <parent link="_ring_knuckle_l0"/>
        <child link="_ring_knuckle_l1"/>
        <axis xyz="-0.9904648595323436 -0.034899502408724456 0.13327185285422538"/>
        <mimic joint="Ring" multiplier="1.25181510906761461754" offset="-0.00000000000000033307"/>
        <limit lower="-0.00000000000000033307" upper="1.25181510906761417345" effort="0" velocity="0"/>
    </joint>


    <joint name="_ring_knuckle_j_ring_knuckle" type="fixed">
        <origin xyz="1.076287437386446 -5.513612382054195 1.2467379346586647" rpy="0.00000000000000033307 0 0"/>
        <parent link="_ring_knuckle_l1"/>
        <child link="ring_knuckle"/>
    </joint>
    <link name="ring_follower">
        <visual>
            <origin xyz="0.0 0.0 0.0" rpy="0 0 0"/>
            <geometry><mesh filename="linear_meshes/right_ring_follower.STL" scale="0.0625 0.0625 0.0625"/></geometry>
            <material name=""><color rgba="0.1 0.7 0.1 1.0"/></material>
        </visual>
        <inertial>
            <mass value="0"/>
            <inertia ixx="0.0" ixy="0.0" ixz="0.0" iyy="0.0" iyz="0.0" izz="0.0"/>
        </inertial>
    </link>
        <link name="_ring_follower_l0">
        <visual>
            <origin xyz="0 0 0" rpy="0 0 0"/>
            <geometry><box size="0 0 0"/></geometry>
            <material name=""><color rgba="0 0 0 0"/></material>
        </visual>
        <inertial>
            <mass value="0"/>
            <inertia ixx="0.0" ixy="0.0" ixz="0.0" iyy="0.0" iyz="0.0" izz="0.0"/>
        </inertial>
    </link>

    <joint name="_ring_follower_j_input_joint" type="fixed">
        <origin xyz="-1.0102042572973156 4.387462722072228 -1.078451840885562" rpy="0.00000000000000005551 0 0"/>
        <parent link="ring_knuckle"/>
        <axis xyz="-0.99046478428178 -0.03489870585914611 0.13327262069533985"/>
        <child link="_ring_follower_l0"/>
    </joint>

    
    <link name="_ring_follower_l1">
        <visual>
            <origin xyz="0 0 -0.00000000000000000000" rpy="0 0 0.00000000000000005551"/>
            <geometry><box size="0 0 0"/></geometry>
            <material name="r64299"><color rgba="0 0 0 0"/></material>
        </visual>
        <inertial>
            <mass value="1"/>
            <inertia ixx="1.0" ixy="0.0" ixz="0.0" iyy="1.0" iyz="0.0" izz="1.0"/>
        </inertial>
    </link>
    <joint name="_ring_follower_j01" type="revolute">
        <origin xyz="0 0 0.00000000000000000000" rpy="0 0 0"/>
        <parent link="_ring_follower_l0"/>
        <child link="_ring_follower_l1"/>
        <axis xyz="-0.99046478428178 -0.03489870585914611 0.13327262069533985"/>
        <mimic joint="Ring" multiplier="0.26423062522385398765" offset="-0.00000000000000005551"/>
        <limit lower="-0.00000000000000005551" upper="0.26423062522385393214" effort="0" velocity="0"/>
    </joint>


    <joint name="_ring_follower_j_ring_follower" type="fixed">
        <origin xyz="1.0102042572973156 -4.387462722072228 1.078451840885562" rpy="0.00000000000000005551 0 0"/>
        <parent link="_ring_follower_l1"/>
        <child link="ring_follower"/>
    </joint>
    <link name="ring_link">
        <visual>
            <origin xyz="0.0 0.0 0.0" rpy="0 0 0"/>
            <geometry><mesh filename="linear_meshes/right_ring_link.STL" scale="0.0625 0.0625 0.0625"/></geometry>
            <material name=""><color rgba="0.7 0.1 0.1 1.0"/></material>
        </visual>
        <inertial>
            <mass value="0"/>
            <inertia ixx="0.0" ixy="0.0" ixz="0.0" iyy="0.0" iyz="0.0" izz="0.0"/>
        </inertial>
    </link>
        <link name="_ring_link_l0">
        <visual>
            <origin xyz="0 0 0" rpy="0 0 0"/>
            <geometry><box size="0 0 0"/></geometry>
            <material name=""><color rgba="0 0 0 0"/></material>
        </visual>
        <inertial>
            <mass value="0"/>
            <inertia ixx="0.0" ixy="0.0" ixz="0.0" iyy="0.0" iyz="0.0" izz="0.0"/>
        </inertial>
    </link>

    <joint name="_ring_link_j_input_joint" type="fixed">
        <origin xyz="-1.078572100240299 5.984454531834645 -0.9417015242120699" rpy="0.00000000000000027756 0 0"/>
        <parent link="hand_link"/>
        <axis xyz="0.9904648586488499 0.03489949747682052 -0.1332718607117766"/>
        <child link="_ring_link_l0"/>
    </joint>

    
    <link name="_ring_link_l1">
        <visual>
            <origin xyz="0 0 -0.00000000000000000000" rpy="0 0 0.00000000000000027756"/>
            <geometry><box size="0 0 0"/></geometry>
            <material name="r3823"><color rgba="0 0 0 0"/></material>
        </visual>
        <inertial>
            <mass value="1"/>
            <inertia ixx="1.0" ixy="0.0" ixz="0.0" iyy="1.0" iyz="0.0" izz="1.0"/>
        </inertial>
    </link>
    <joint name="_ring_link_j01" type="revolute">
        <origin xyz="0 0 0.00000000000000000000" rpy="0 0 0"/>
        <parent link="_ring_link_l0"/>
        <child link="_ring_link_l1"/>
        <axis xyz="0.9904648586488499 0.03489949747682052 -0.1332718607117766"/>
        <mimic joint="Ring" multiplier="1.34878364034376629910" offset="-0.00000000000000027756"/>
        <limit lower="-0.00000000000000027756" upper="1.34878364034376607705" effort="0" velocity="0"/>
    </joint>


    <joint name="_ring_link_j_ring_link" type="fixed">
        <origin xyz="1.078572100240299 -5.984454531834645 0.9417015242120699" rpy="0.00000000000000027756 0 0"/>
        <parent link="_ring_link_l1"/>
        <child link="ring_link"/>
    </joint>
    <link name="little_proximal">
        <visual>
            <origin xyz="0.0 0.0 0.0" rpy="0 0 0"/>
            <geometry><mesh filename="linear_meshes/right_little_proximal.STL" scale="0.0625 0.0625 0.0625"/></geometry>
            <material name=""><color rgba="1.0 1.0 1.0 1.0"/></material>
        </visual>
        <inertial>
            <mass value="0"/>
            <inertia ixx="0.0" ixy="0.0" ixz="0.0" iyy="0.0" iyz="0.0" izz="0.0"/>
        </inertial>
    </link>
        <link name="_little_proximal_l0">
        <visual>
            <origin xyz="0 0 0" rpy="0 0 0"/>
            <geometry><box size="0 0 0"/></geometry>
            <material name=""><color rgba="0 0 0 0"/></material>
        </visual>
        <inertial>
            <mass value="0"/>
            <inertia ixx="0.0" ixy="0.0" ixz="0.0" iyy="0.0" iyz="0.0" izz="0.0"/>
        </inertial>
    </link>

    <joint name="_little_proximal_j_input_joint" type="fixed">
        <origin xyz="-2.057319724224253 5.270538765035208 -0.24661281778517774" rpy="0.00000000000000022204 0 0"/>
        <parent link="hand_link"/>
        <axis xyz="0.9786112745748743 0.10442184811921981 -0.1772457359439341"/>
        <child link="_little_proximal_l0"/>
    </joint>

    
    <link name="_little_proximal_l1">
        <visual>
            <origin xyz="0 0 -0.00000000000000000000" rpy="0 0 0.00000000000000022204"/>
            <geometry><box size="0 0 0"/></geometry>
            <material name="r3524"><color rgba="0 0 0 0"/></material>
        </visual>
        <inertial>
            <mass value="1"/>
            <inertia ixx="1.0" ixy="0.0" ixz="0.0" iyy="1.0" iyz="0.0" izz="1.0"/>
        </inertial>
    </link>
    <joint name="_little_proximal_j01" type="revolute">
        <origin xyz="0 0 0.00000000000000000000" rpy="0 0 0"/>
        <parent link="_little_proximal_l0"/>
        <child link="_little_proximal_l1"/>
        <axis xyz="0.9786112745748743 0.10442184811921981 -0.1772457359439341"/>
        <mimic joint="Little" multiplier="1.51604353824540605267" offset="-0.00000000000000022204"/>
        <limit lower="-0.00000000000000022204" upper="1.51604353824540583062" effort="0" velocity="0"/>
    </joint>


    <joint name="_little_proximal_j_little_proximal" type="fixed">
        <origin xyz="2.057319724224253 -5.270538765035208 0.24661281778517774" rpy="0.00000000000000022204 0 0"/>
        <parent link="_little_proximal_l1"/>
        <child link="little_proximal"/>
    </joint>
    <link name="little_distal">
        <visual>
            <origin xyz="0.0 0.0 0.0" rpy="0 0 0"/>
            <geometry><mesh filename="linear_meshes/right_little_distal.STL" scale="0.0625 0.0625 0.0625"/></geometry>
            <material name=""><color rgba="1.0 1.0 1.0 1.0"/></material>
        </visual>
        <inertial>
            <mass value="0"/>
            <inertia ixx="0.0" ixy="0.0" ixz="0.0" iyy="0.0" iyz="0.0" izz="0.0"/>
        </inertial>
    </link>
        <link name="_little_distal_l0">
        <visual>
            <origin xyz="0 0 0" rpy="0 0 0"/>
            <geometry><box size="0 0 0"/></geometry>
            <material name=""><color rgba="0 0 0 0"/></material>
        </visual>
        <inertial>
            <mass value="0"/>
            <inertia ixx="0.0" ixy="0.0" ixz="0.0" iyy="0.0" iyz="0.0" izz="0.0"/>
        </inertial>
    </link>

    <joint name="_little_distal_j_input_joint" type="fixed">
        <origin xyz="-2.2520633889913793 6.742798507484316 -0.4576241639059808" rpy="-0.00000001490116086078 0 0"/>
        <parent link="little_proximal"/>
        <axis xyz="0.9786112688356977 0.1044218162920877 -0.177245786381644"/>
        <child link="_little_distal_l0"/>
    </joint>

    
    <link name="_little_distal_l1">
        <visual>
            <origin xyz="0 0 -0.00000000000000000000" rpy="0 0 -0.00000001490116086078"/>
            <geometry><box size="0 0 0"/></geometry>
            <material name="r81183"><color rgba="0 0 0 0"/></material>
        </visual>
        <inertial>
            <mass value="1"/>
            <inertia ixx="1.0" ixy="0.0" ixz="0.0" iyy="1.0" iyz="0.0" izz="1.0"/>
        </inertial>
    </link>
    <joint name="_little_distal_j01" type="revolute">
        <origin xyz="0 0 0.00000000000000000000" rpy="0 0 0"/>
        <parent link="_little_distal_l0"/>
        <child link="_little_distal_l1"/>
        <axis xyz="0.9786112688356977 0.1044218162920877 -0.177245786381644"/>
        <mimic joint="Little" multiplier="1.31664152870820272412" offset="0.00000001490116086078"/>
        <limit lower="0.00000001490116086078" upper="1.31664154360936347388" effort="0" velocity="0"/>
    </joint>


    <joint name="_little_distal_j_little_distal" type="fixed">
        <origin xyz="2.2520633889913793 -6.742798507484316 0.4576241639059808" rpy="-0.00000001490116086078 0 0"/>
        <parent link="_little_distal_l1"/>
        <child link="little_distal"/>
    </joint>
    <link name="little_knuckle">
        <visual>
            <origin xyz="0.0 0.0 0.0" rpy="0 0 0"/>
            <geometry><mesh filename="linear_meshes/right_little_knuckle.STL" scale="0.0625 0.0625 0.0625"/></geometry>
            <material name=""><color rgba="0.1 0.1 0.7 1.0"/></material>
        </visual>
        <inertial>
            <mass value="0"/>
            <inertia ixx="0.0" ixy="0.0" ixz="0.0" iyy="0.0" iyz="0.0" izz="0.0"/>
        </inertial>
    </link>
        <link name="_little_knuckle_l0">
        <visual>
            <origin xyz="0 0 0" rpy="0 0 0"/>
            <geometry><box size="0 0 0"/></geometry>
            <material name=""><color rgba="0 0 0 0"/></material>
        </visual>
        <inertial>
            <mass value="0"/>
            <inertia ixx="0.0" ixy="0.0" ixz="0.0" iyy="0.0" iyz="0.0" izz="0.0"/>
        </inertial>
    </link>

    <joint name="_little_knuckle_j_input_joint" type="fixed">
        <origin xyz="-2.120049770560409 4.884666340842449 -0.8121441650432416" rpy="-0.00000001490116097180 0 0"/>
        <parent link="little_proximal"/>
        <axis xyz="-0.9786112715268198 -0.10442182673933997 0.1772457653685416"/>
        <child link="_little_knuckle_l0"/>
    </joint>

    
    <link name="_little_knuckle_l1">
        <visual>
            <origin xyz="0 0 -0.00000000000000000000" rpy="0 0 -0.00000001490116097180"/>
            <geometry><box size="0 0 0"/></geometry>
            <material name="r35148"><color rgba="0 0 0 0"/></material>
        </visual>
        <inertial>
            <mass value="1"/>
            <inertia ixx="1.0" ixy="0.0" ixz="0.0" iyy="1.0" iyz="0.0" izz="1.0"/>
        </inertial>
    </link>
    <joint name="_little_knuckle_j01" type="revolute">
        <origin xyz="0 0 0.00000000000000000000" rpy="0 0 0"/>
        <parent link="_little_knuckle_l0"/>
        <child link="_little_knuckle_l1"/>
        <axis xyz="-0.9786112715268198 -0.10442182673933997 0.1772457653685416"/>
        <mimic joint="Little" multiplier="1.25181529061989249563" offset="0.00000001490116097180"/>
        <limit lower="0.00000001490116097180" upper="1.25181530552105346743" effort="0" velocity="0"/>
    </joint>


    <joint name="_little_knuckle_j_little_knuckle" type="fixed">
        <origin xyz="2.120049770560409 -4.884666340842449 0.8121441650432416" rpy="-0.00000001490116097180 0 0"/>
        <parent link="_little_knuckle_l1"/>
        <child link="little_knuckle"/>
    </joint>
    <link name="little_follower">
        <visual>
            <origin xyz="0.0 0.0 0.0" rpy="0 0 0"/>
            <geometry><mesh filename="linear_meshes/right_little_follower.STL" scale="0.0625 0.0625 0.0625"/></geometry>
            <material name=""><color rgba="0.1 0.7 0.1 1.0"/></material>
        </visual>
        <inertial>
            <mass value="0"/>
            <inertia ixx="0.0" ixy="0.0" ixz="0.0" iyy="0.0" iyz="0.0" izz="0.0"/>
        </inertial>
    </link>
        <link name="_little_follower_l0">
        <visual>
            <origin xyz="0 0 0" rpy="0 0 0"/>
            <geometry><box size="0 0 0"/></geometry>
            <material name=""><color rgba="0 0 0 0"/></material>
        </visual>
        <inertial>
            <mass value="0"/>
            <inertia ixx="0.0" ixy="0.0" ixz="0.0" iyy="0.0" iyz="0.0" izz="0.0"/>
        </inertial>
    </link>

    <joint name="_little_follower_j_input_joint" type="fixed">
        <origin xyz="-1.9684499144753422 3.76508855610884 -0.6557183186033343" rpy="0.00000000000000005551 0 0"/>
        <parent link="little_knuckle"/>
        <axis xyz="-0.9786113234476818 -0.10442071454400961 0.1772461339327191"/>
        <child link="_little_follower_l0"/>
    </joint>

    
    <link name="_little_follower_l1">
        <visual>
            <origin xyz="0 0 -0.00000000000000000000" rpy="0 0 0.00000000000000005551"/>
            <geometry><box size="0 0 0"/></geometry>
            <material name="r76983"><color rgba="0 0 0 0"/></material>
        </visual>
        <inertial>
            <mass value="1"/>
            <inertia ixx="1.0" ixy="0.0" ixz="0.0" iyy="1.0" iyz="0.0" izz="1.0"/>
        </inertial>
    </link>
    <joint name="_little_follower_j01" type="revolute">
        <origin xyz="0 0 0.00000000000000000000" rpy="0 0 0"/>
        <parent link="_little_follower_l0"/>
        <child link="_little_follower_l1"/>
        <axis xyz="-0.9786113234476818 -0.10442071454400961 0.1772461339327191"/>
        <mimic joint="Little" multiplier="0.26422625333146315674" offset="-0.00000000000000005551"/>
        <limit lower="-0.00000000000000005551" upper="0.26422625333146310123" effort="0" velocity="0"/>
    </joint>


    <joint name="_little_follower_j_little_follower" type="fixed">
        <origin xyz="1.9684499144753422 -3.76508855610884 0.6557183186033343" rpy="0.00000000000000005551 0 0"/>
        <parent link="_little_follower_l1"/>
        <child link="little_follower"/>
    </joint>
    <link name="little_link">
        <visual>
            <origin xyz="0.0 0.0 0.0" rpy="0 0 0"/>
            <geometry><mesh filename="linear_meshes/right_little_link.STL" scale="0.0625 0.0625 0.0625"/></geometry>
            <material name=""><color rgba="0.7 0.1 0.1 1.0"/></material>
        </visual>
        <inertial>
            <mass value="0"/>
            <inertia ixx="0.0" ixy="0.0" ixz="0.0" iyy="0.0" iyz="0.0" izz="0.0"/>
        </inertial>
    </link>
        <link name="_little_link_l0">
        <visual>
            <origin xyz="0 0 0" rpy="0 0 0"/>
            <geometry><box size="0 0 0"/></geometry>
            <material name=""><color rgba="0 0 0 0"/></material>
        </visual>
        <inertial>
            <mass value="0"/>
            <inertia ixx="0.0" ixy="0.0" ixz="0.0" iyy="0.0" iyz="0.0" izz="0.0"/>
        </inertial>
    </link>

    <joint name="_little_link_j_input_joint" type="fixed">
        <origin xyz="-2.1349977455383624 5.35345561586718 -0.5047965951115416" rpy="0.00000000000000022204 0 0"/>
        <parent link="hand_link"/>
        <axis xyz="0.9786112669174357 0.10442180910601918 -0.17724580120634031"/>
        <child link="_little_link_l0"/>
    </joint>

    
    <link name="_little_link_l1">
        <visual>
            <origin xyz="0 0 -0.00000000000000000000" rpy="0 0 0.00000000000000022204"/>
            <geometry><box size="0 0 0"/></geometry>
            <material name="r45524"><color rgba="0 0 0 0"/></material>
        </visual>
        <inertial>
            <mass value="1"/>
            <inertia ixx="1.0" ixy="0.0" ixz="0.0" iyy="1.0" iyz="0.0" izz="1.0"/>
        </inertial>
    </link>
    <joint name="_little_link_j01" type="revolute">
        <origin xyz="0 0 0.00000000000000000000" rpy="0 0 0"/>
        <parent link="_little_link_l0"/>
        <child link="_little_link_l1"/>
        <axis xyz="0.9786112669174357 0.10442180910601918 -0.17724580120634031"/>
        <mimic joint="Little" multiplier="1.31664159359669974414" offset="-0.00000000000000022204"/>
        <limit lower="-0.00000000000000022204" upper="1.31664159359669952210" effort="0" velocity="0"/>
    </joint>


    <joint name="_little_link_j_little_link" type="fixed">
        <origin xyz="2.1349977455383624 -5.35345561586718 0.5047965951115416" rpy="0.00000000000000022204 0 0"/>
        <parent link="_little_link_l1"/>
        <child link="little_link"/>
    </joint>
</robot>
